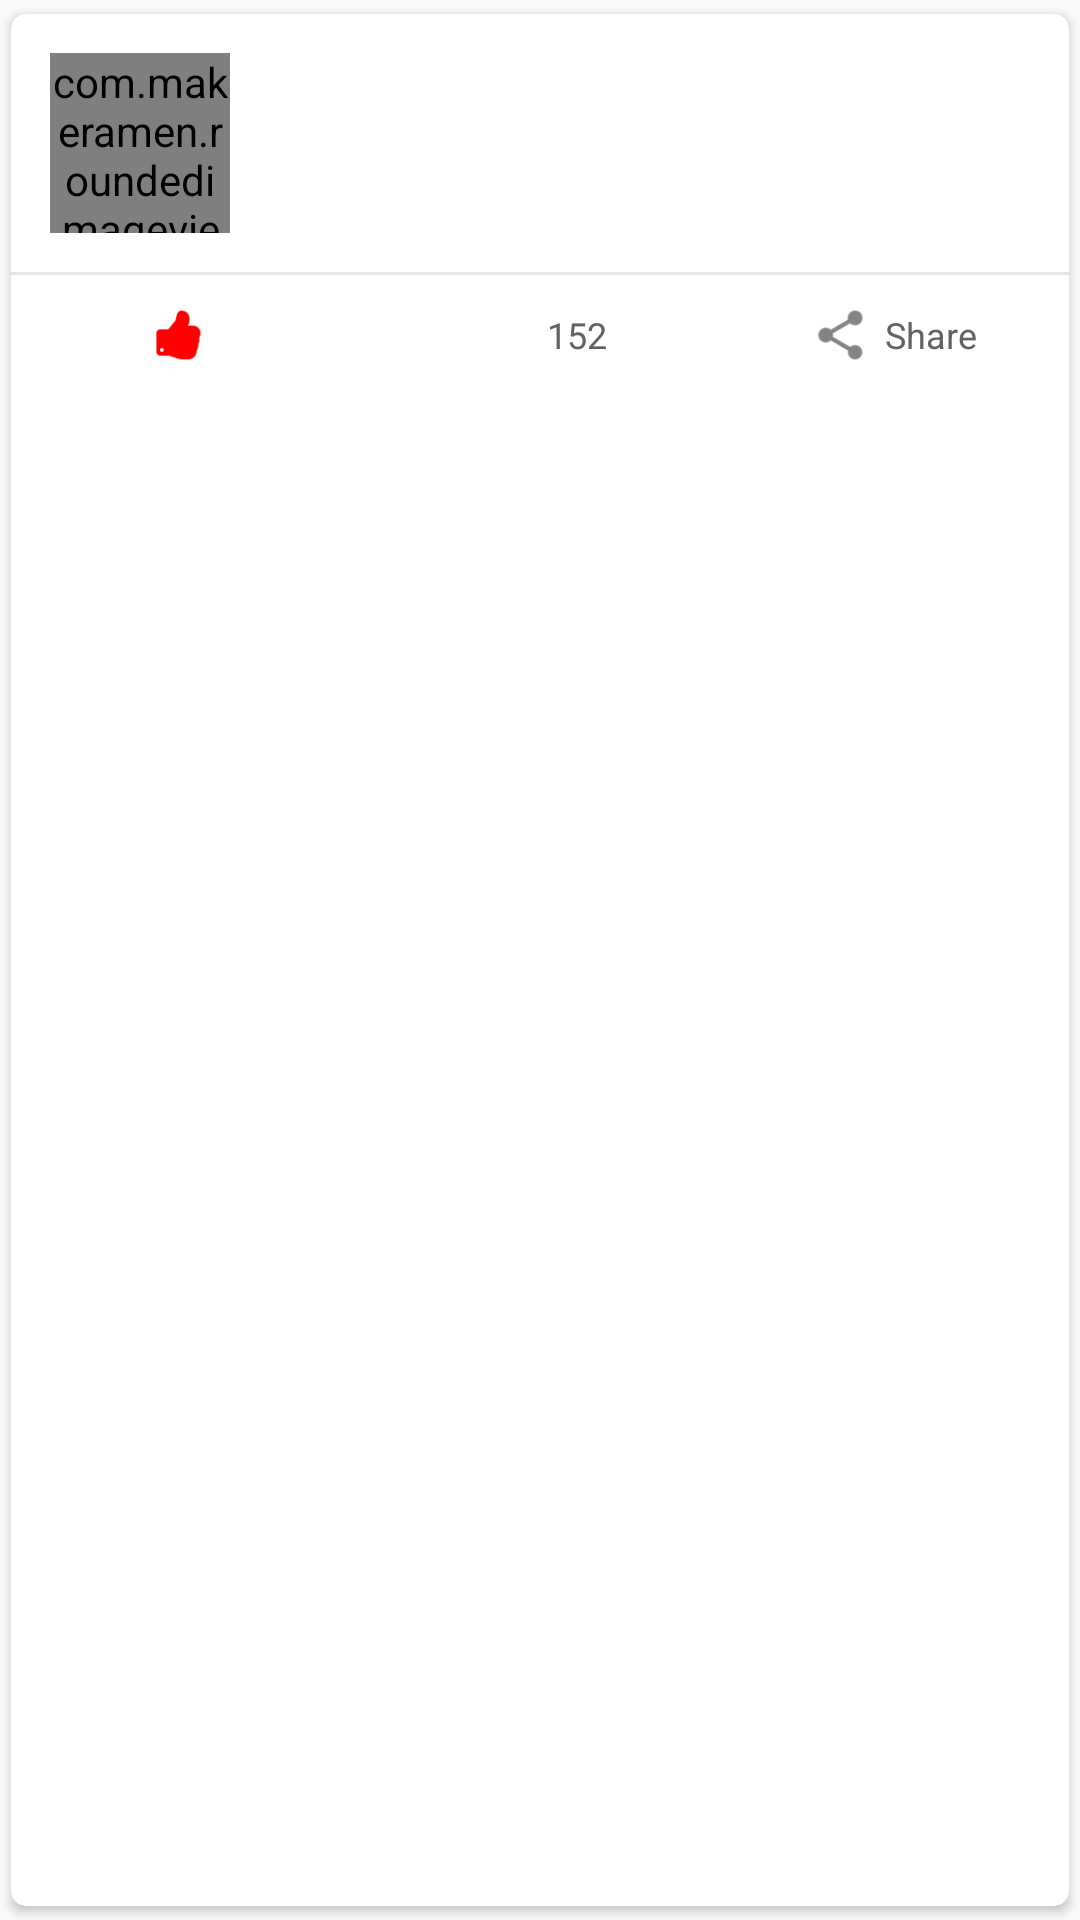

Screen size 1080x1920. Icon name, then its center in pixels as point (x, y):
like hover: point (178, 335)
